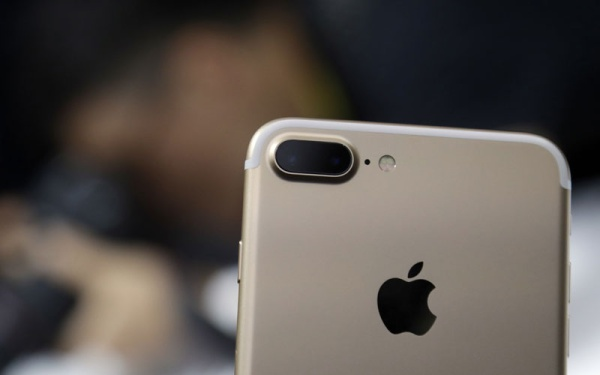apple: (362, 219, 471, 372)
